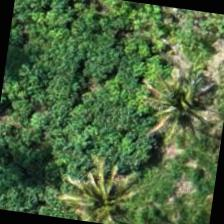Kelapa_Sawit: (131, 56, 223, 158), (56, 151, 155, 223)
